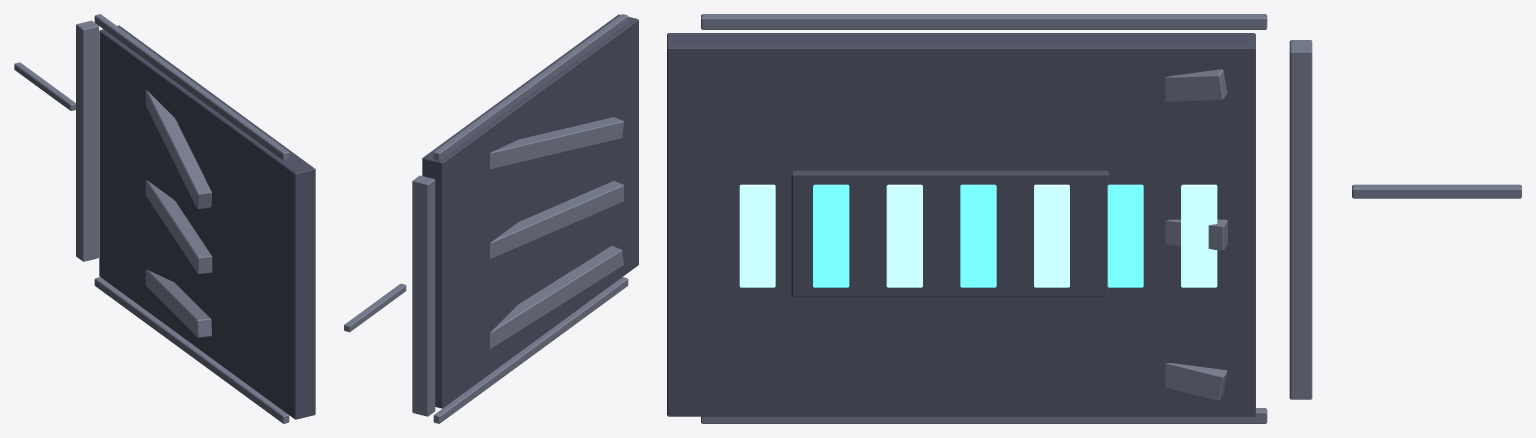
The model's file is facade_fin_l.glb.
3 views of the same model, side by side, from view 1: azimuth 30°, elevation 25°; view 2: azimuth 150°, elevation 25°; view 3: azimuth 270°, elevation 25° (orthographic). The views are drawn at different scales.
Visible parts, largest first — view 1: FacadeFin_L; view 2: FacadeFin_L; view 3: FacadeFin_L.
Boxes of the visible parts, x1=… form: FacadeFin_L: x1=14, y1=14, x2=315, y2=423; FacadeFin_L: x1=344, y1=14, x2=638, y2=423; FacadeFin_L: x1=667, y1=14, x2=1521, y2=423.
Size of the model in its own units: 1.08 by 3.96 by 7.55.
